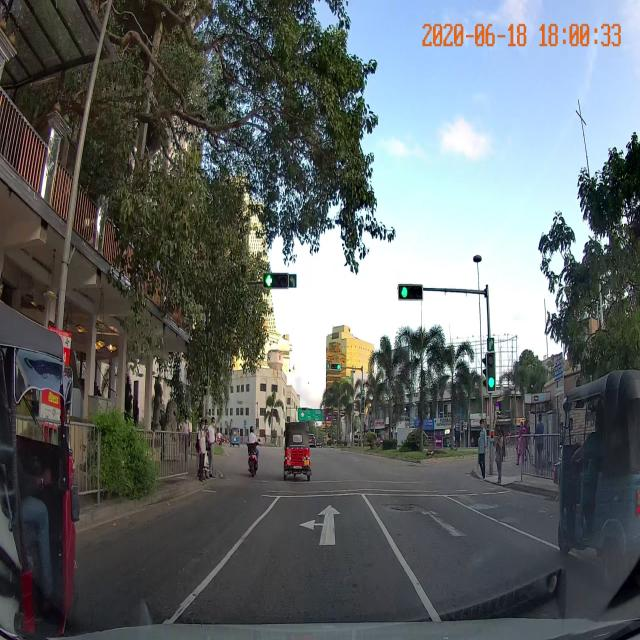forward_lft: (218, 488, 421, 581)
